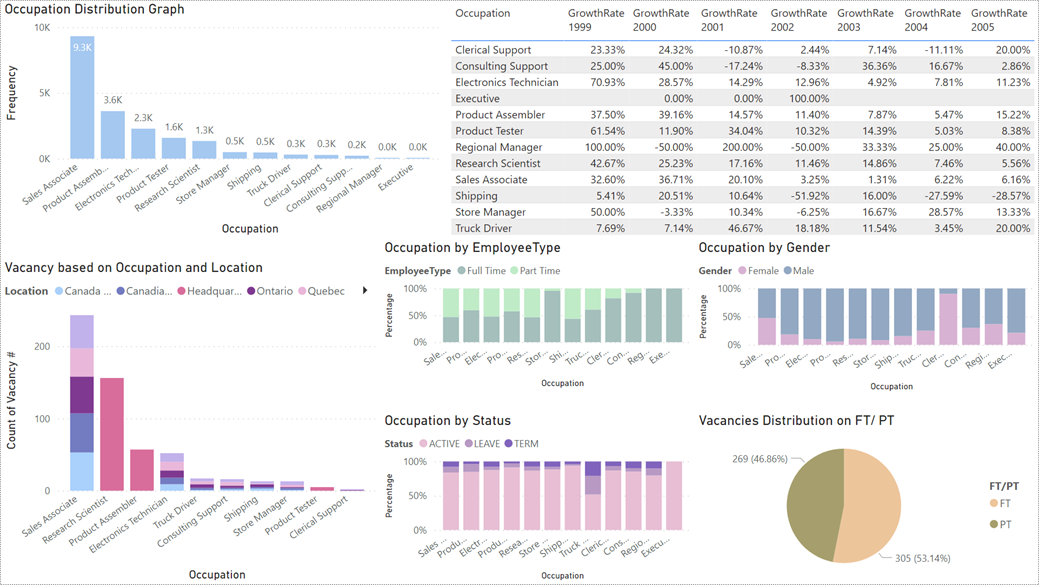

This screenshot's page, from the dashboard's own definition file:
{"tool":"powerbi","page":{"name":"Page 1","canvas":[1280,720],"ordinal":0},"visuals":[{"type":"columnChart","title":"Occupation Distribution Graph","fields":{"Category":["Raw Data.Occupation"],"Y":["CountNonNull(Raw Data.Occupation)"]},"box":[0,0,550,294.3],"z":0},{"type":"hundredPercentStackedColumnChart","title":"Occupation by EmployeeType","fields":{"Category":["Raw Data.Occupation"],"Series":["Raw Data.EmployeeType"],"Y":["CountNonNull(Raw Data.EmployeeType)"]},"box":[468.6,294.3,387.1,188.6],"z":1000},{"type":"hundredPercentStackedColumnChart","title":"Occupation by Status","fields":{"Category":["Raw Data.Occupation"],"Series":["Raw Data.Status"],"Y":["CountNonNull(Raw Data.Status)"]},"box":[468.6,507.1,387.1,212.9],"z":2000},{"type":"columnChart","title":"Vacancy based on Occupation and Location","fields":{"Category":["Vacancy Download Dec 31 2005.Occupation"],"Y":["Count(Vacancy Download Dec 31 2005.Vacancy #)"],"Series":["Vacancy Download Dec 31 2005.Location"]},"box":[0,318.6,468.6,401.4],"z":3000},{"type":"pieChart","title":"Vacancies Distribution on FT/ PT","fields":{"Category":["Vacancy Download Dec 31 2005.FT/PT"],"Y":["CountNonNull(Vacancy Download Dec 31 2005.Vacancy #)"]},"box":[855.7,507.1,424.3,212.9],"z":4000},{"type":"hundredPercentStackedColumnChart","title":"Occupation by Gender","fields":{"Category":["Raw Data.Occupation"],"Series":["Raw Data.Gender"],"Y":["CountNonNull(Raw Data.Gender)"]},"box":[855.7,294.3,424.3,192.9],"z":5000},{"type":"tableEx","fields":{"Values":["Occupation Year.Occupation","Occupation Year.GrowthRate1999","Occupation Year.GrowthRate2000","Occupation Year.GrowthRate2001","Occupation Year.GrowthRate2002","Occupation Year.GrowthRate2003","Occupation Year.GrowthRate2004","Occupation Year.GrowthRate2005"]},"box":[550,0,730,294],"z":6001}]}

Visuals, with their boxes in screenshot pixels (x1, y1, x2, y2), scaled from the page's 1280x720 canvas onto the 1039x585 screenshot:
"Occupation Distribution Graph" columnChart: [0, 0, 446, 239]
"Occupation by EmployeeType" hundredPercentStackedColumnChart: [380, 239, 695, 392]
"Occupation by Status" hundredPercentStackedColumnChart: [380, 412, 695, 584]
"Vacancy based on Occupation and Location" columnChart: [0, 259, 380, 584]
"Vacancies Distribution on FT/ PT" pieChart: [695, 412, 1038, 584]
"Occupation by Gender" hundredPercentStackedColumnChart: [695, 239, 1038, 396]
tableEx - Occupation Year.Occupation x Occupation Year.GrowthRate1999: [446, 0, 1038, 239]
